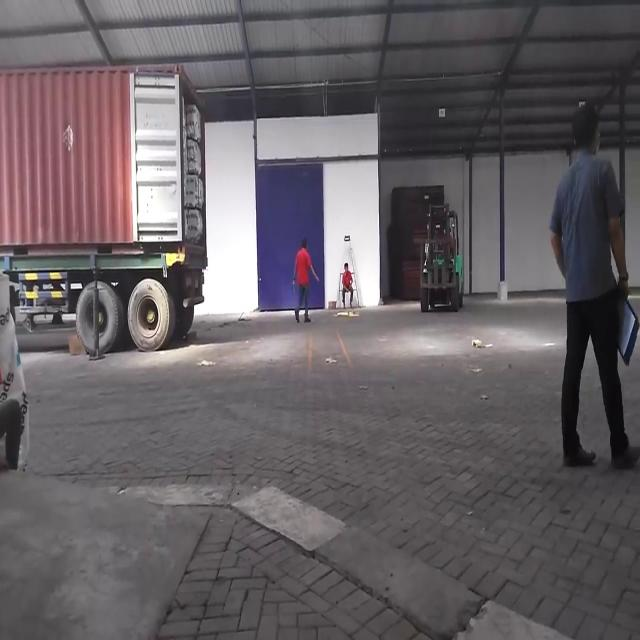Chariot elevateur: (416, 199, 470, 322)
